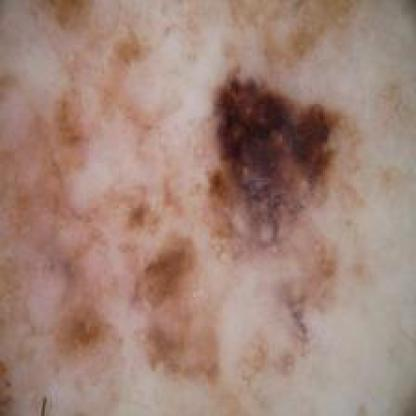malignant: (171, 56, 368, 252)
